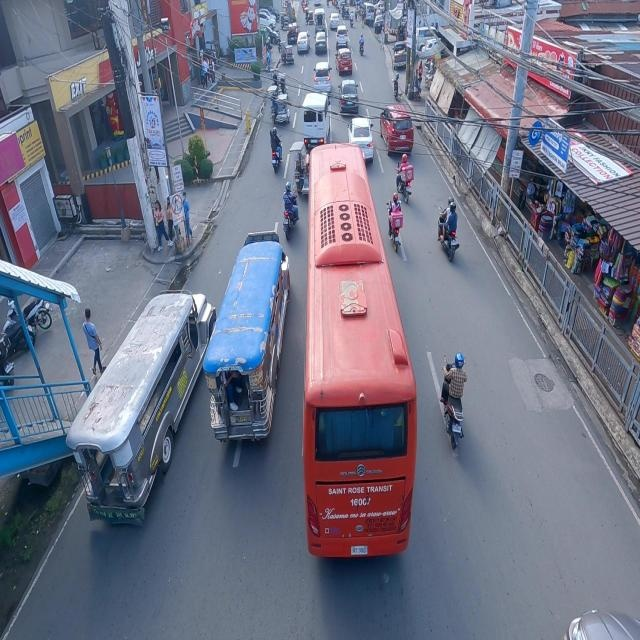Van: (302, 90, 331, 149)
